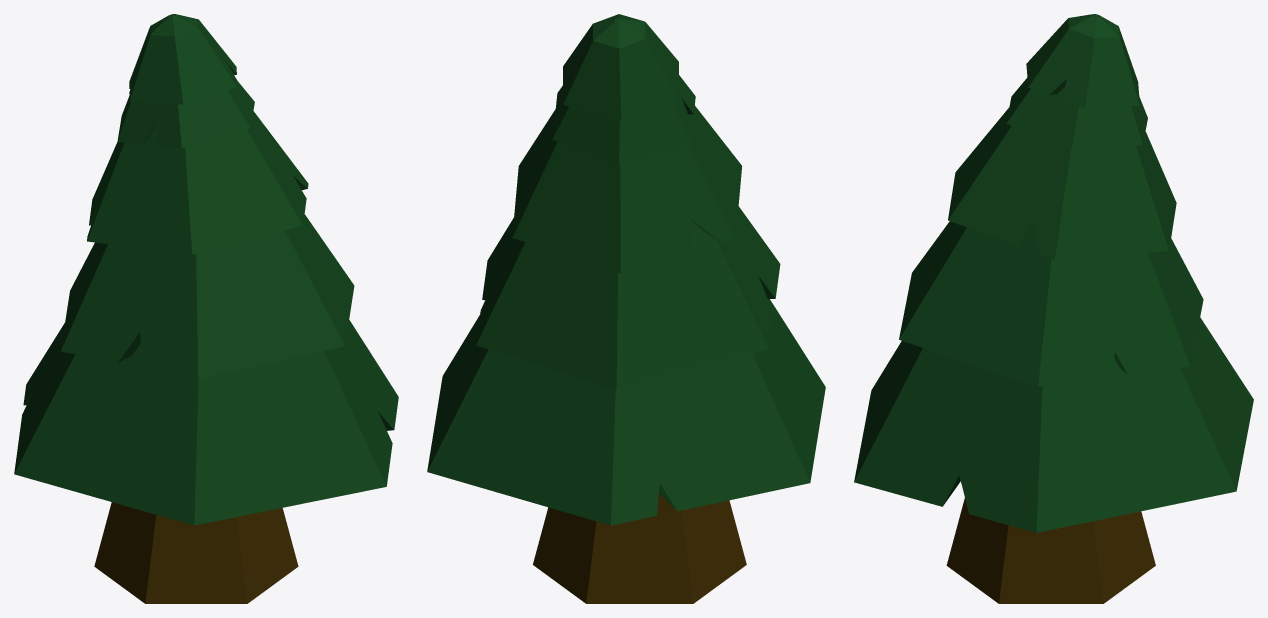
File: arbre.glb
3 views of the same model, side by side, from view 1: azimuth 30°, elevation 25°; view 2: azimuth 150°, elevation 25°; view 3: azimuth 270°, elevation 25° (orthographic). The views are drawn at different scales.
Visible parts, largest first — view 1: Cylinder.001, Cylinder.002, Cylinder.003, Cylinder, Cylinder.005, Cylinder.004; view 2: Cylinder.001, Cylinder.002, Cylinder.003, Cylinder, Cylinder.005, Cylinder.004; view 3: Cylinder.001, Cylinder.002, Cylinder.003, Cylinder, Cylinder.005, Cylinder.004.
Boxes of the visible parts, x1,y1,x2,y2 form: Cylinder.001: [14, 320, 398, 525]; Cylinder.002: [60, 214, 354, 378]; Cylinder.003: [87, 111, 308, 254]; Cylinder: [94, 502, 298, 603]; Cylinder.005: [129, 14, 236, 104]; Cylinder.004: [117, 80, 254, 147]; Cylinder.001: [427, 299, 825, 525]; Cylinder.002: [476, 206, 780, 389]; Cylinder.003: [512, 105, 742, 273]; Cylinder: [533, 494, 746, 603]; Cylinder.005: [563, 14, 679, 121]; Cylinder.004: [552, 75, 695, 164]; Cylinder.001: [854, 317, 1253, 532]; Cylinder.002: [899, 221, 1203, 386]; Cylinder.003: [948, 107, 1176, 259]; Cylinder: [946, 498, 1155, 603]; Cylinder.005: [1026, 14, 1139, 108]; Cylinder.004: [1006, 78, 1147, 148].
Bounding box in the file's own units: 1.86 × 2.59 × 1.71.
